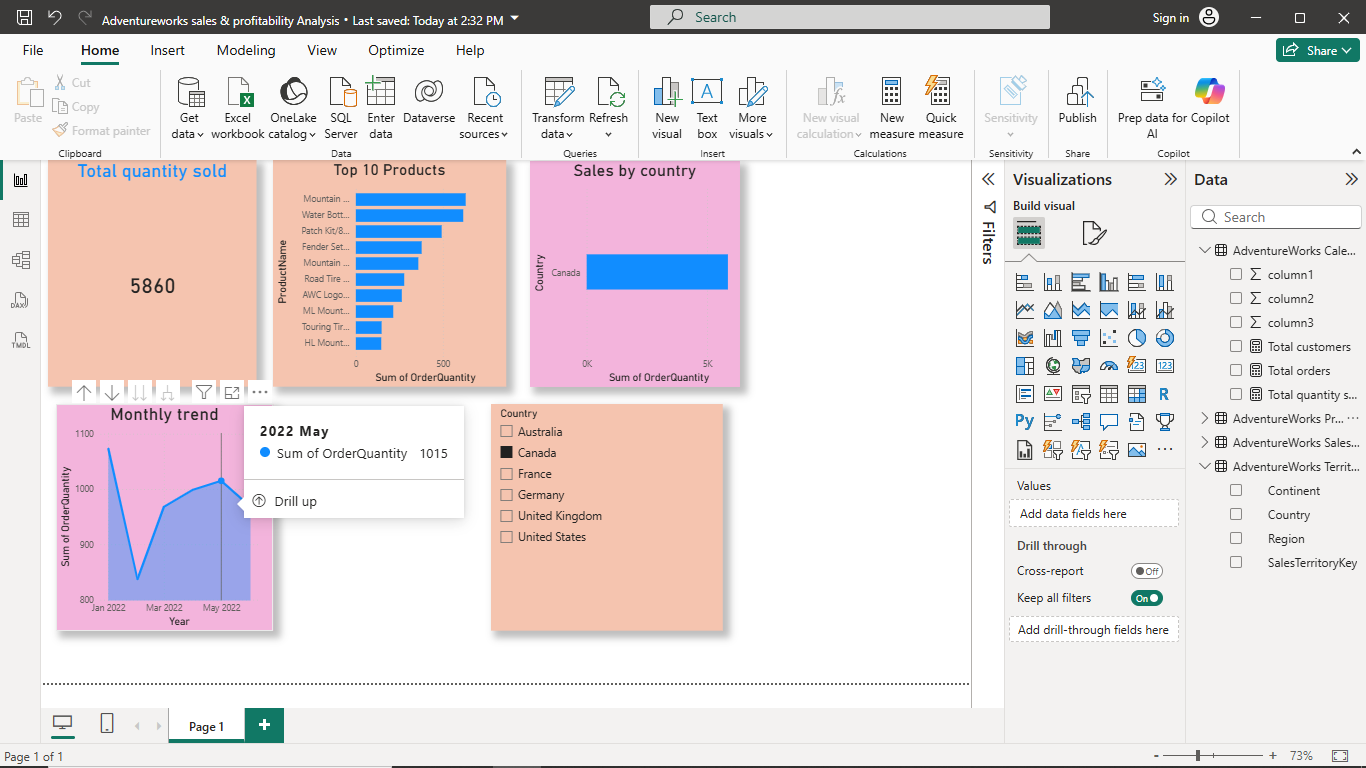

The page's visual inventory and layout, read from the dashboard file:
{"tool":"powerbi","page":{"name":"Page 1","canvas":[1280,720],"ordinal":0},"visuals":[{"type":"card","title":"Total quantity sold","fields":{"Values":["AdventureWorks Calendar Lookup.Total quantity sold"]},"box":[10.1,0,287.2,312.4],"z":0},{"type":"clusteredBarChart","title":"Top 10 Products","fields":{"Category":["AdventureWorks Product Lookup.ProductName"],"Y":["Sum(AdventureWorks Sales Data 2022(1).OrderQuantity)"]},"box":[319.3,0,320.7,312.4],"z":1},{"type":"clusteredBarChart","title":"Sales by country","fields":{"Category":["AdventureWorks Territory Lookup.Country"],"Y":["Sum(AdventureWorks Sales Data 2022(1).OrderQuantity)"]},"box":[673,1.4,289,311.1],"z":2},{"type":"lineChart","title":"Monthly trend","fields":{"Category":["AdventureWorks Sales Data 2022(1).OrderDate.Variation.Date Hierarchy.Year","AdventureWorks Sales Data 2022(1).OrderDate.Variation.Date Hierarchy.Month"],"Y":["Sum(AdventureWorks Sales Data 2022(1).OrderQuantity)"]},"box":[20.6,335.8,298.7,312.4],"z":3},{"type":"slicer","fields":{"Values":["AdventureWorks Territory Lookup.Country"]},"box":[619.4,335.8,319.3,312.4],"z":4}]}

Visuals, with their boxes on the page's 1280x720 design canvas (x1, y1, x2, y2). These are canvas units, not pixel positions in the 1366x768 screenshot, which may show the page scaled, cropped or inside an application window:
"Total quantity sold" card: [10, 0, 297, 312]
"Top 10 Products" clusteredBarChart: [319, 0, 640, 312]
"Sales by country" clusteredBarChart: [673, 1, 962, 312]
"Monthly trend" lineChart: [21, 336, 319, 648]
slicer - AdventureWorks Territory Lookup.Country: [619, 336, 939, 648]
